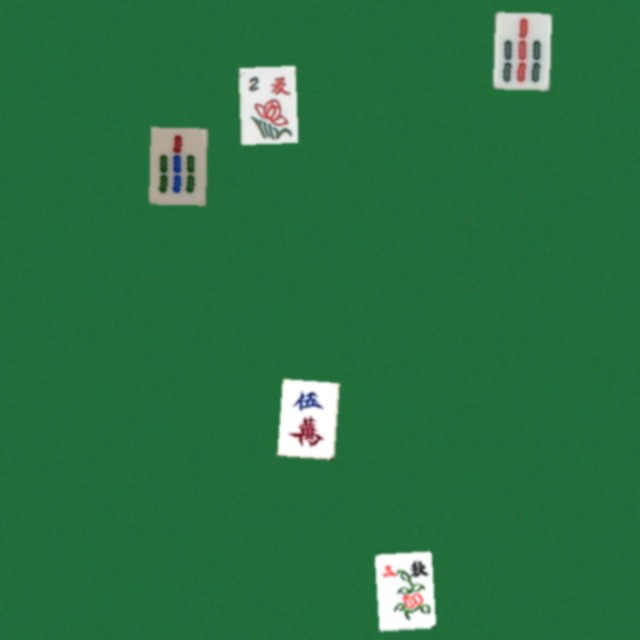tile: (238, 65, 295, 142), (149, 127, 206, 204), (374, 551, 431, 628), (492, 12, 549, 89), (277, 379, 334, 456)
